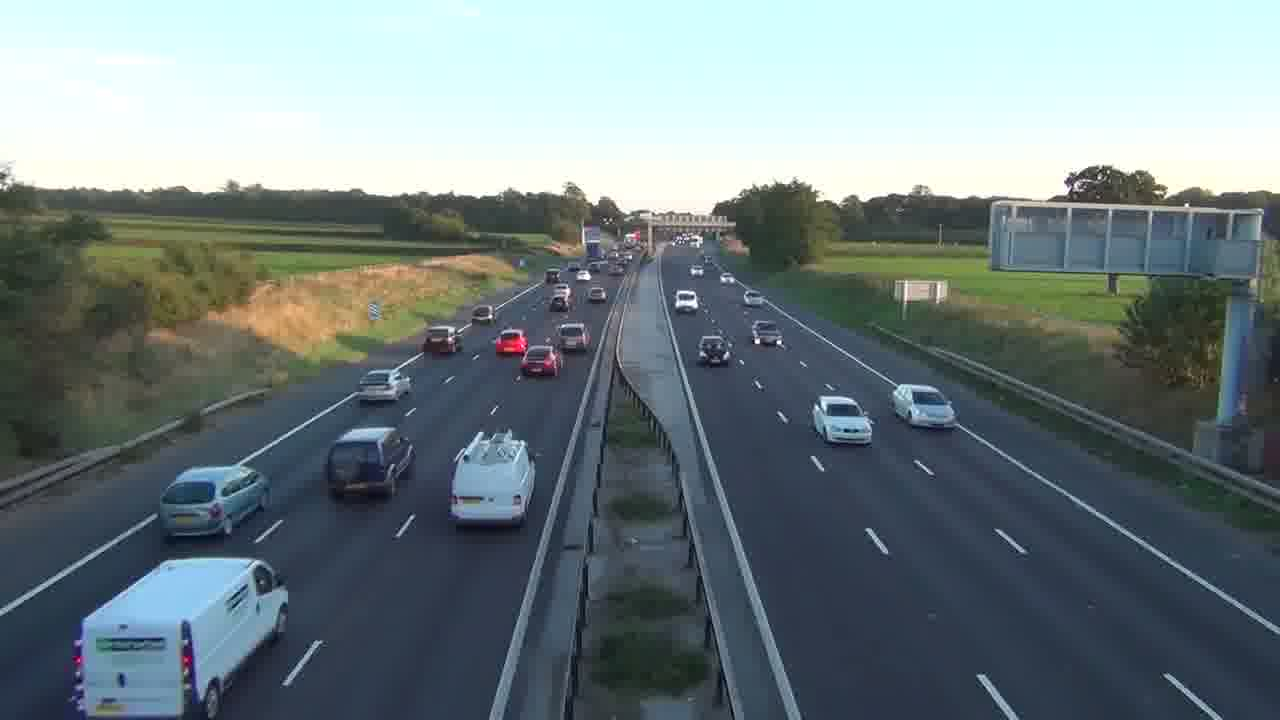car: (158, 462, 271, 540), (812, 395, 875, 447), (891, 383, 957, 430), (357, 368, 407, 404), (517, 345, 562, 379), (555, 321, 592, 353), (696, 335, 732, 367), (494, 328, 528, 357), (751, 319, 785, 348), (673, 289, 700, 314)
truck: (70, 555, 291, 717)
